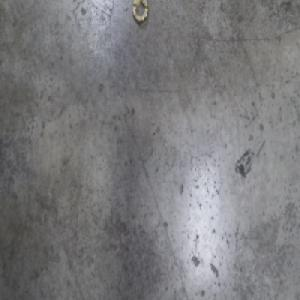Nut: (131, 0, 149, 27)
